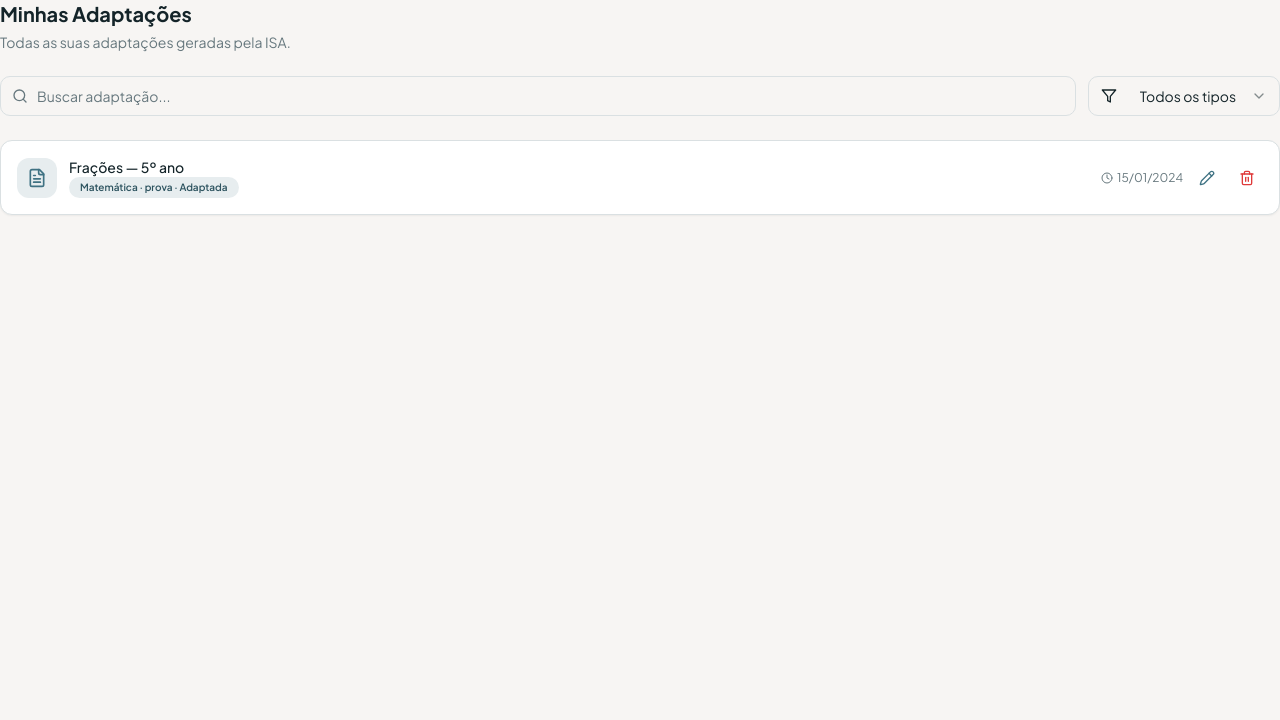
Test: MyAdaptations Page › cancels delete when clicking cancel
Expected: the text "Frações — 5º ano" is shown, [69, 158, 184, 176]
Click the 2nd button. click: (1247, 178)
box: [1231, 162, 1263, 194]
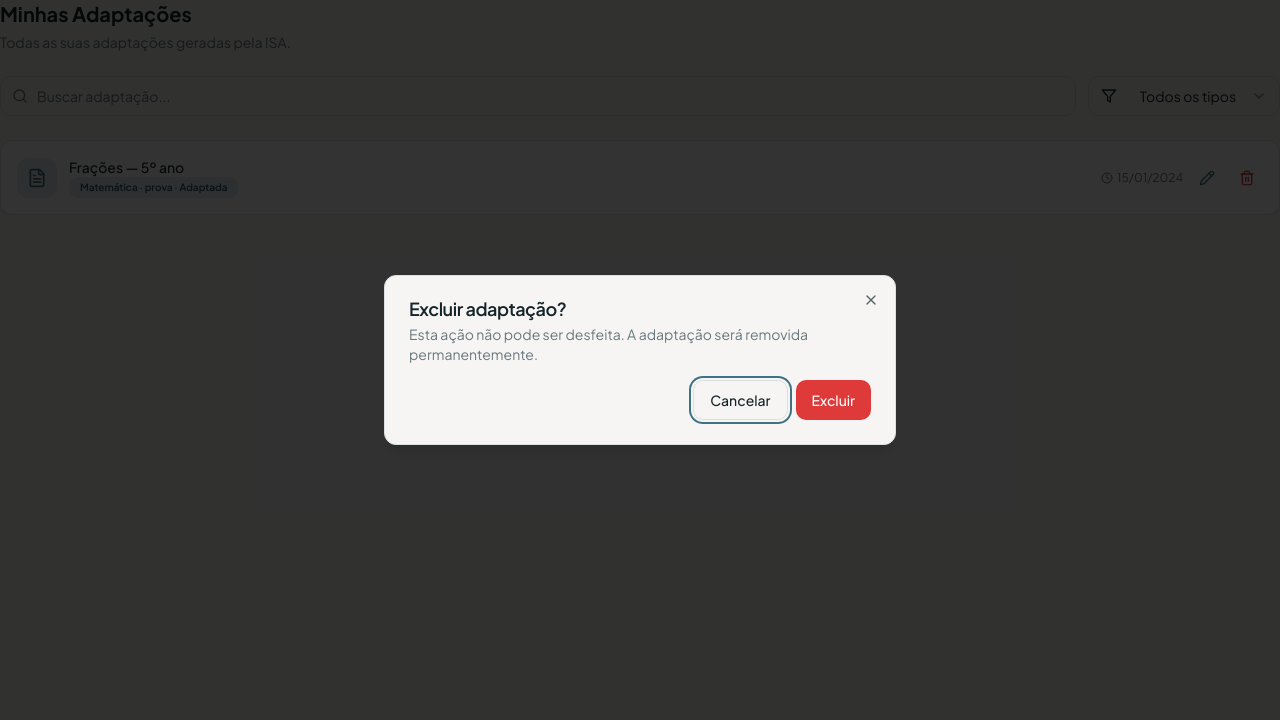
Click the button "Cancelar". click: (740, 400)
box: [693, 380, 788, 420]
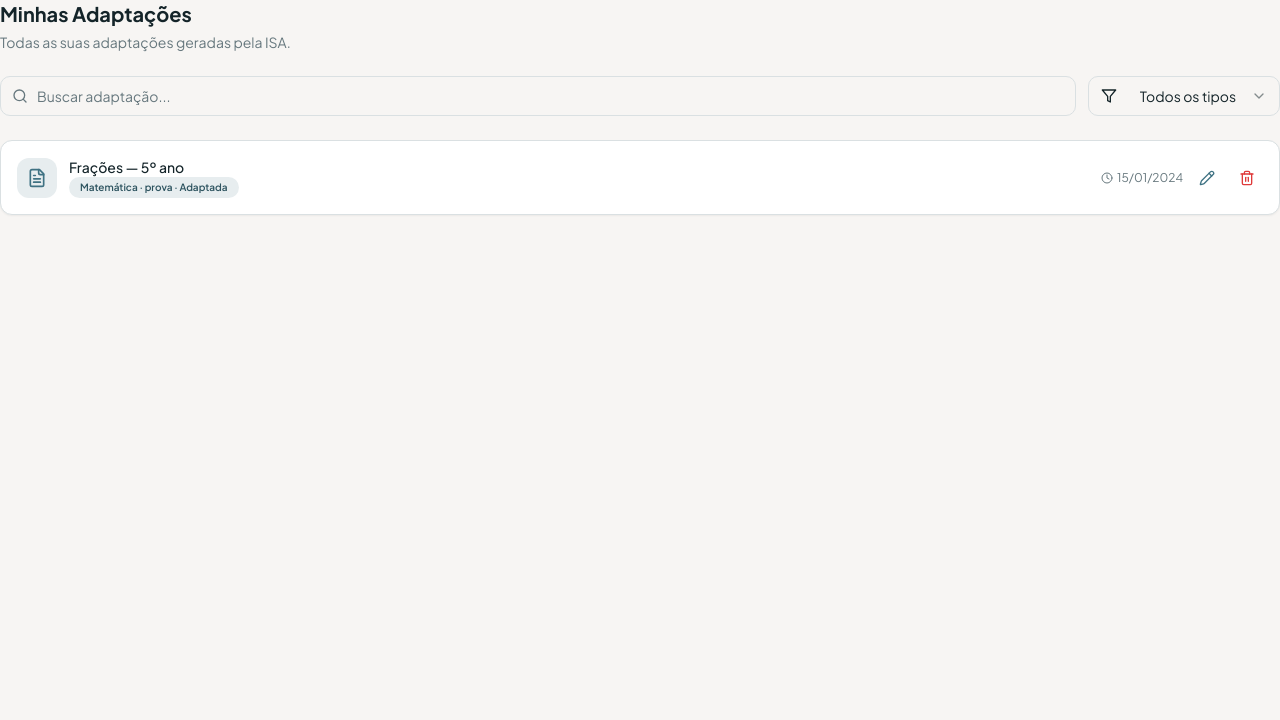
Result: the heading "Excluir adaptação?" is gone
